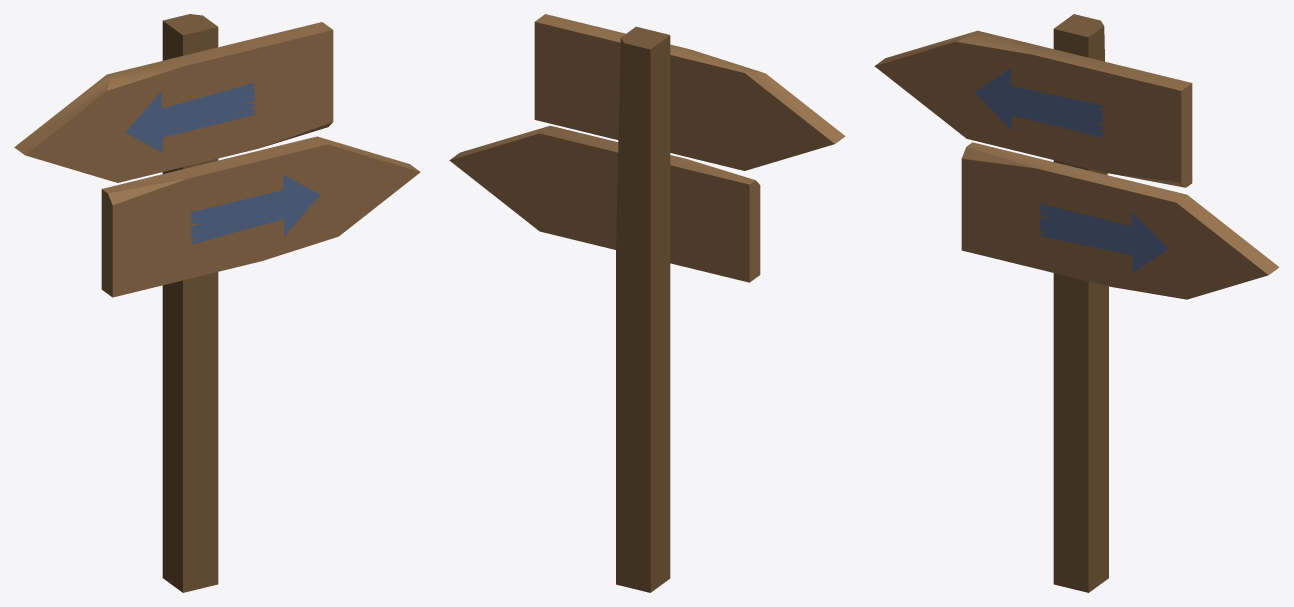
The model's file is Pointer_03.glb.
3 views of the same model, side by side, from view 1: azimuth 30°, elevation 25°; view 2: azimuth 150°, elevation 25°; view 3: azimuth 330°, elevation 25° (orthographic). The views are drawn at different scales.
Parts seen in each view (by area): view 1: Pointer_03; view 2: Pointer_03; view 3: Pointer_03.
Part boxes in pixels (x1,y1,x2,y2): Pointer_03: (14,14,420,592); Pointer_03: (449,14,845,592); Pointer_03: (874,14,1279,592).
Size of the model in its own units: 0.7711 by 1.04 by 0.1056.
Materials: 1 (1 with a texture image).
